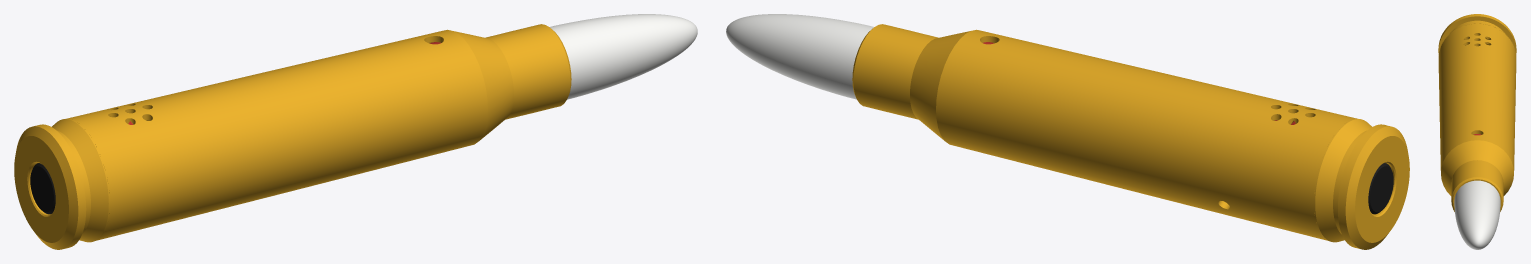
File: AFTR_AR1.glb
The picture shows the model from 3 angles, left to right: view 1: azimuth 30°, elevation 25°; view 2: azimuth 150°, elevation 25°; view 3: azimuth 270°, elevation 25°; orthographic projection. The views are drawn at different scales.
Parts seen in each view (by area): view 1: node_id9, node_id7, node_id13, node_id17; view 2: node_id9, node_id7, node_id13, node_id17; view 3: node_id9, node_id13, node_id7.
Part boxes in pixels (x1=…): node_id9: x1=67, y1=24, x2=571, y2=240; node_id7: x1=14, y1=118, x2=109, y2=249; node_id13: x1=549, y1=14, x2=697, y2=99; node_id17: x1=30, y1=163, x2=55, y2=214; node_id9: x1=852, y1=24, x2=1356, y2=240; node_id7: x1=1314, y1=118, x2=1409, y2=249; node_id13: x1=726, y1=14, x2=873, y2=99; node_id17: x1=1368, y1=163, x2=1393, y2=214; node_id9: x1=1438, y1=23, x2=1516, y2=211; node_id13: x1=1454, y1=180, x2=1500, y2=249; node_id7: x1=1438, y1=14, x2=1516, y2=55.
Bounding box in the file's own units: 0.512 × 0.0856 × 0.0856.
Materials: 50 (50 with a texture image).
